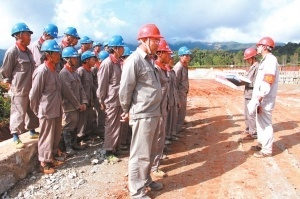blue: (10, 21, 32, 47), (40, 37, 60, 63), (107, 34, 124, 58), (61, 45, 78, 66), (41, 23, 58, 42), (80, 50, 96, 68), (62, 25, 77, 44), (177, 45, 191, 64), (79, 35, 92, 50)
red: (137, 23, 160, 55), (255, 37, 275, 58), (157, 38, 167, 62), (243, 48, 256, 66)
